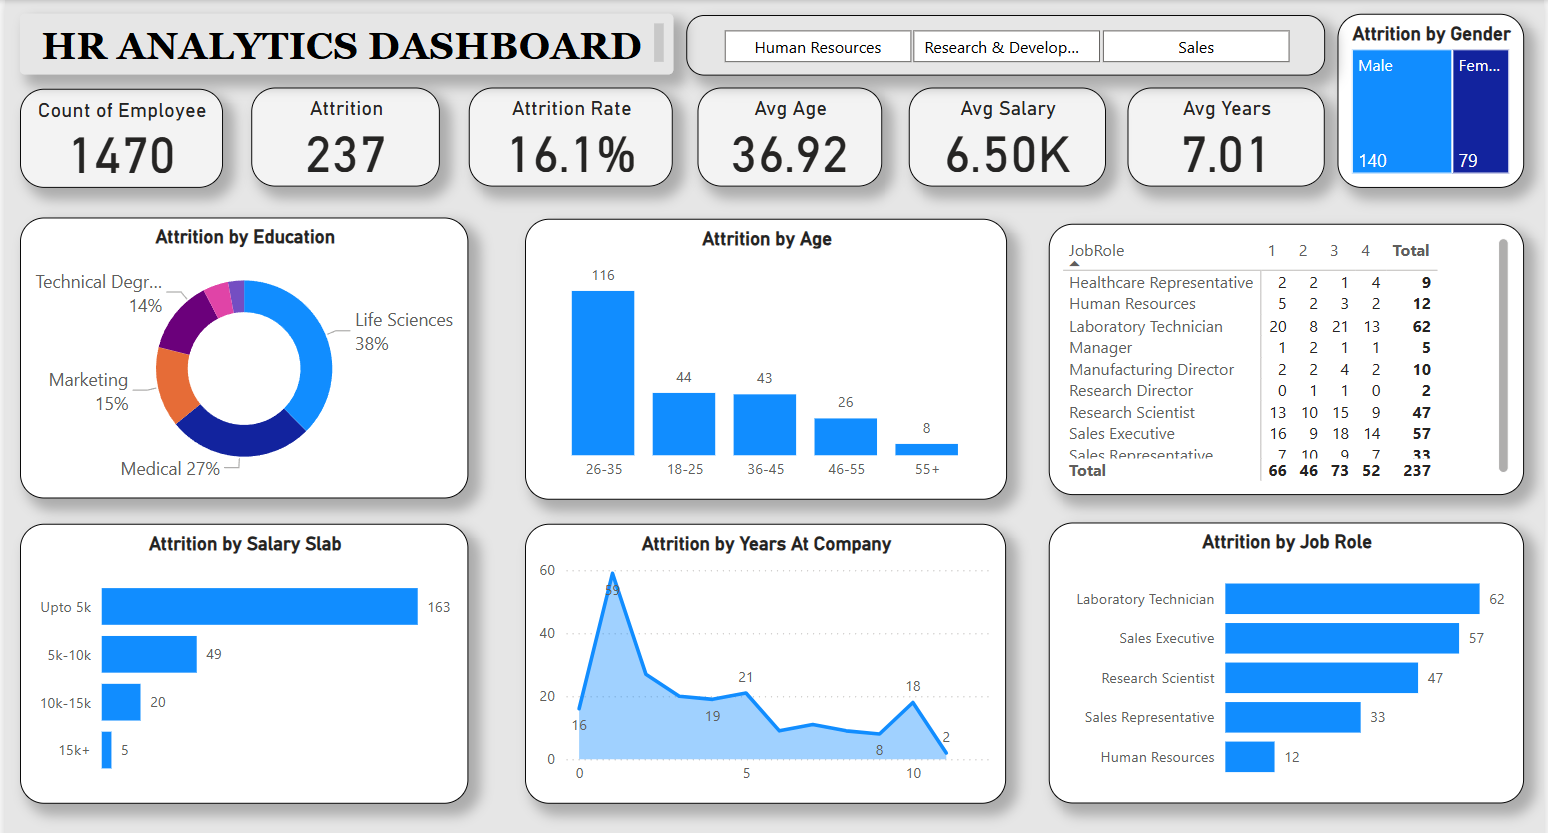

What the dashboard file says about the page in this screenshot:
{"tool":"powerbi","page":{"name":"Page 1","canvas":[1280,720],"ordinal":0},"visuals":[{"type":"card","title":"Count of Employee","fields":{"Values":["CountNonNull(HR_Analytics.EmpID)"]},"box":[12.5,73.8,168.8,82.5],"z":0},{"type":"card","title":"Attrition","fields":{"Values":["Sum(HR_Analytics.AttritionCount)"]},"box":[204.7,73.3,157,82.6],"z":1000},{"type":"card","title":"Attrition Rate","fields":{"Values":["HR_Analytics.AttritionRate"]},"box":[386,73.3,169.8,82.6],"z":2000},{"type":"card","title":"Avg Age","fields":{"Values":["Avg(HR_Analytics.Age)"]},"box":[575.6,73.3,153.5,82.6],"z":3000},{"type":"card","title":"Avg Salary","fields":{"Values":["Avg(HR_Analytics.MonthlyIncome)"]},"box":[751.2,73.3,164,82.6],"z":4000},{"type":"card","title":"Avg Years","fields":{"Values":["Avg(HR_Analytics.YearsAtCompany)"]},"box":[933.7,73.3,164,82.6],"z":5000},{"type":"donutChart","title":"Attrition by Education","fields":{"Category":["HR_Analytics.EducationField"],"Y":["Sum(HR_Analytics.AttritionCount)"]},"box":[12.5,180.8,373.1,233.8],"z":6000},{"type":"columnChart","title":"Attrition by Age","fields":{"Category":["HR_Analytics.AgeGroup"],"Y":["Sum(HR_Analytics.AttritionCount)"]},"box":[432.3,181.9,401.2,233.8],"z":7000},{"type":"pivotTable","fields":{"Rows":["HR_Analytics.JobRole"],"Columns":["HR_Analytics.JobSatisfaction"],"Values":["Sum(HR_Analytics.AttritionCount)"]},"box":[867.8,186,394.9,225.5],"z":8000},{"type":"barChart","title":"Attrition by Salary Slab","fields":{"Category":["HR_Analytics.SalarySlab"],"Y":["Sum(HR_Analytics.AttritionCount)"]},"box":[12.5,435.5,373.1,232.8],"z":9000},{"type":"barChart","title":"Attrition by Job Role","fields":{"Category":["HR_Analytics.JobRole"],"Y":["Sum(HR_Analytics.AttritionCount)"]},"box":[867.8,434.4,394.9,233.8],"z":10000},{"type":"areaChart","title":"Attrition by Years At Company","fields":{"Category":["HR_Analytics.YearsAtCompany"],"Y":["Sum(HR_Analytics.AttritionCount)"]},"box":[432.3,435.5,400.1,232.8],"z":11000},{"type":"treemap","title":"Attrition by Gender","fields":{"Group":["HR_Analytics.Gender"],"Values":["Sum(HR_Analytics.AttritionCount)"]},"box":[1107.5,11.2,155,145],"z":12000},{"type":"slicer","fields":{"Values":["HR_Analytics.Department"]},"box":[566.3,12.8,531.4,50],"z":13000},{"type":"textbox","box":[12.9,11.8,543.5,50.6],"z":14000}]}

Visuals, with their boxes in screenshot pixels (x1, y1, x2, y2):
"Count of Employee" card: (left=27, top=87, right=227, bottom=185)
"Attrition" card: (left=255, top=87, right=441, bottom=185)
"Attrition Rate" card: (left=469, top=87, right=671, bottom=185)
"Avg Age" card: (left=694, top=87, right=876, bottom=185)
"Avg Salary" card: (left=902, top=87, right=1097, bottom=185)
"Avg Years" card: (left=1118, top=87, right=1313, bottom=185)
"Attrition by Education" donutChart: (left=27, top=214, right=469, bottom=491)
"Attrition by Age" columnChart: (left=524, top=216, right=1000, bottom=493)
pivotTable - HR_Analytics.JobRole x HR_Analytics.JobSatisfaction: (left=1040, top=220, right=1508, bottom=488)
"Attrition by Salary Slab" barChart: (left=27, top=516, right=469, bottom=792)
"Attrition by Job Role" barChart: (left=1040, top=515, right=1508, bottom=792)
"Attrition by Years At Company" areaChart: (left=524, top=516, right=998, bottom=792)
"Attrition by Gender" treemap: (left=1324, top=13, right=1508, bottom=185)
slicer - HR_Analytics.Department: (left=683, top=15, right=1313, bottom=74)
textbox: (left=27, top=14, right=671, bottom=74)
